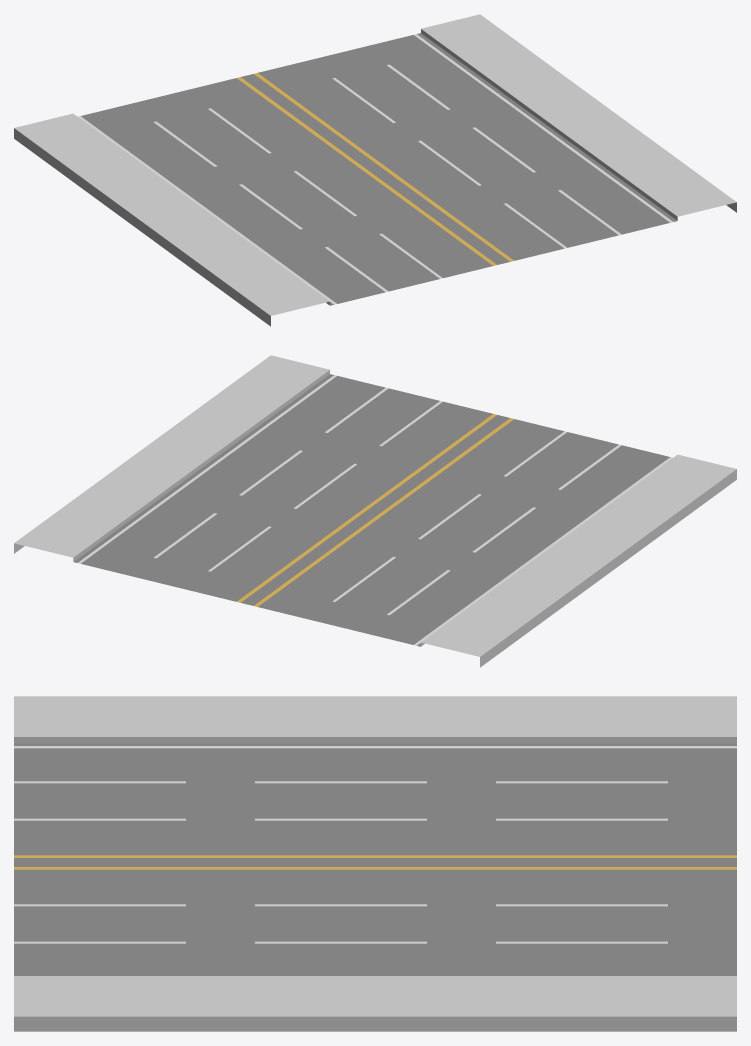
The model's file is Street_Normal.fbx.
3 views of the same model, one above another, from view 1: azimuth 30°, elevation 25°; view 2: azimuth 150°, elevation 25°; view 3: azimuth 270°, elevation 25° (orthographic). The views are drawn at different scales.
Parts seen in each view (by area): view 1: Street; view 2: Street; view 3: Street.
Boxes of the visible parts, x1=… form: Street: x1=14, y1=14, x2=736, y2=326; Street: x1=14, y1=355, x2=736, y2=667; Street: x1=14, y1=696, x2=736, y2=1031.
Bounding box in the file's own units: 1760 × 38.54 × 1680.
